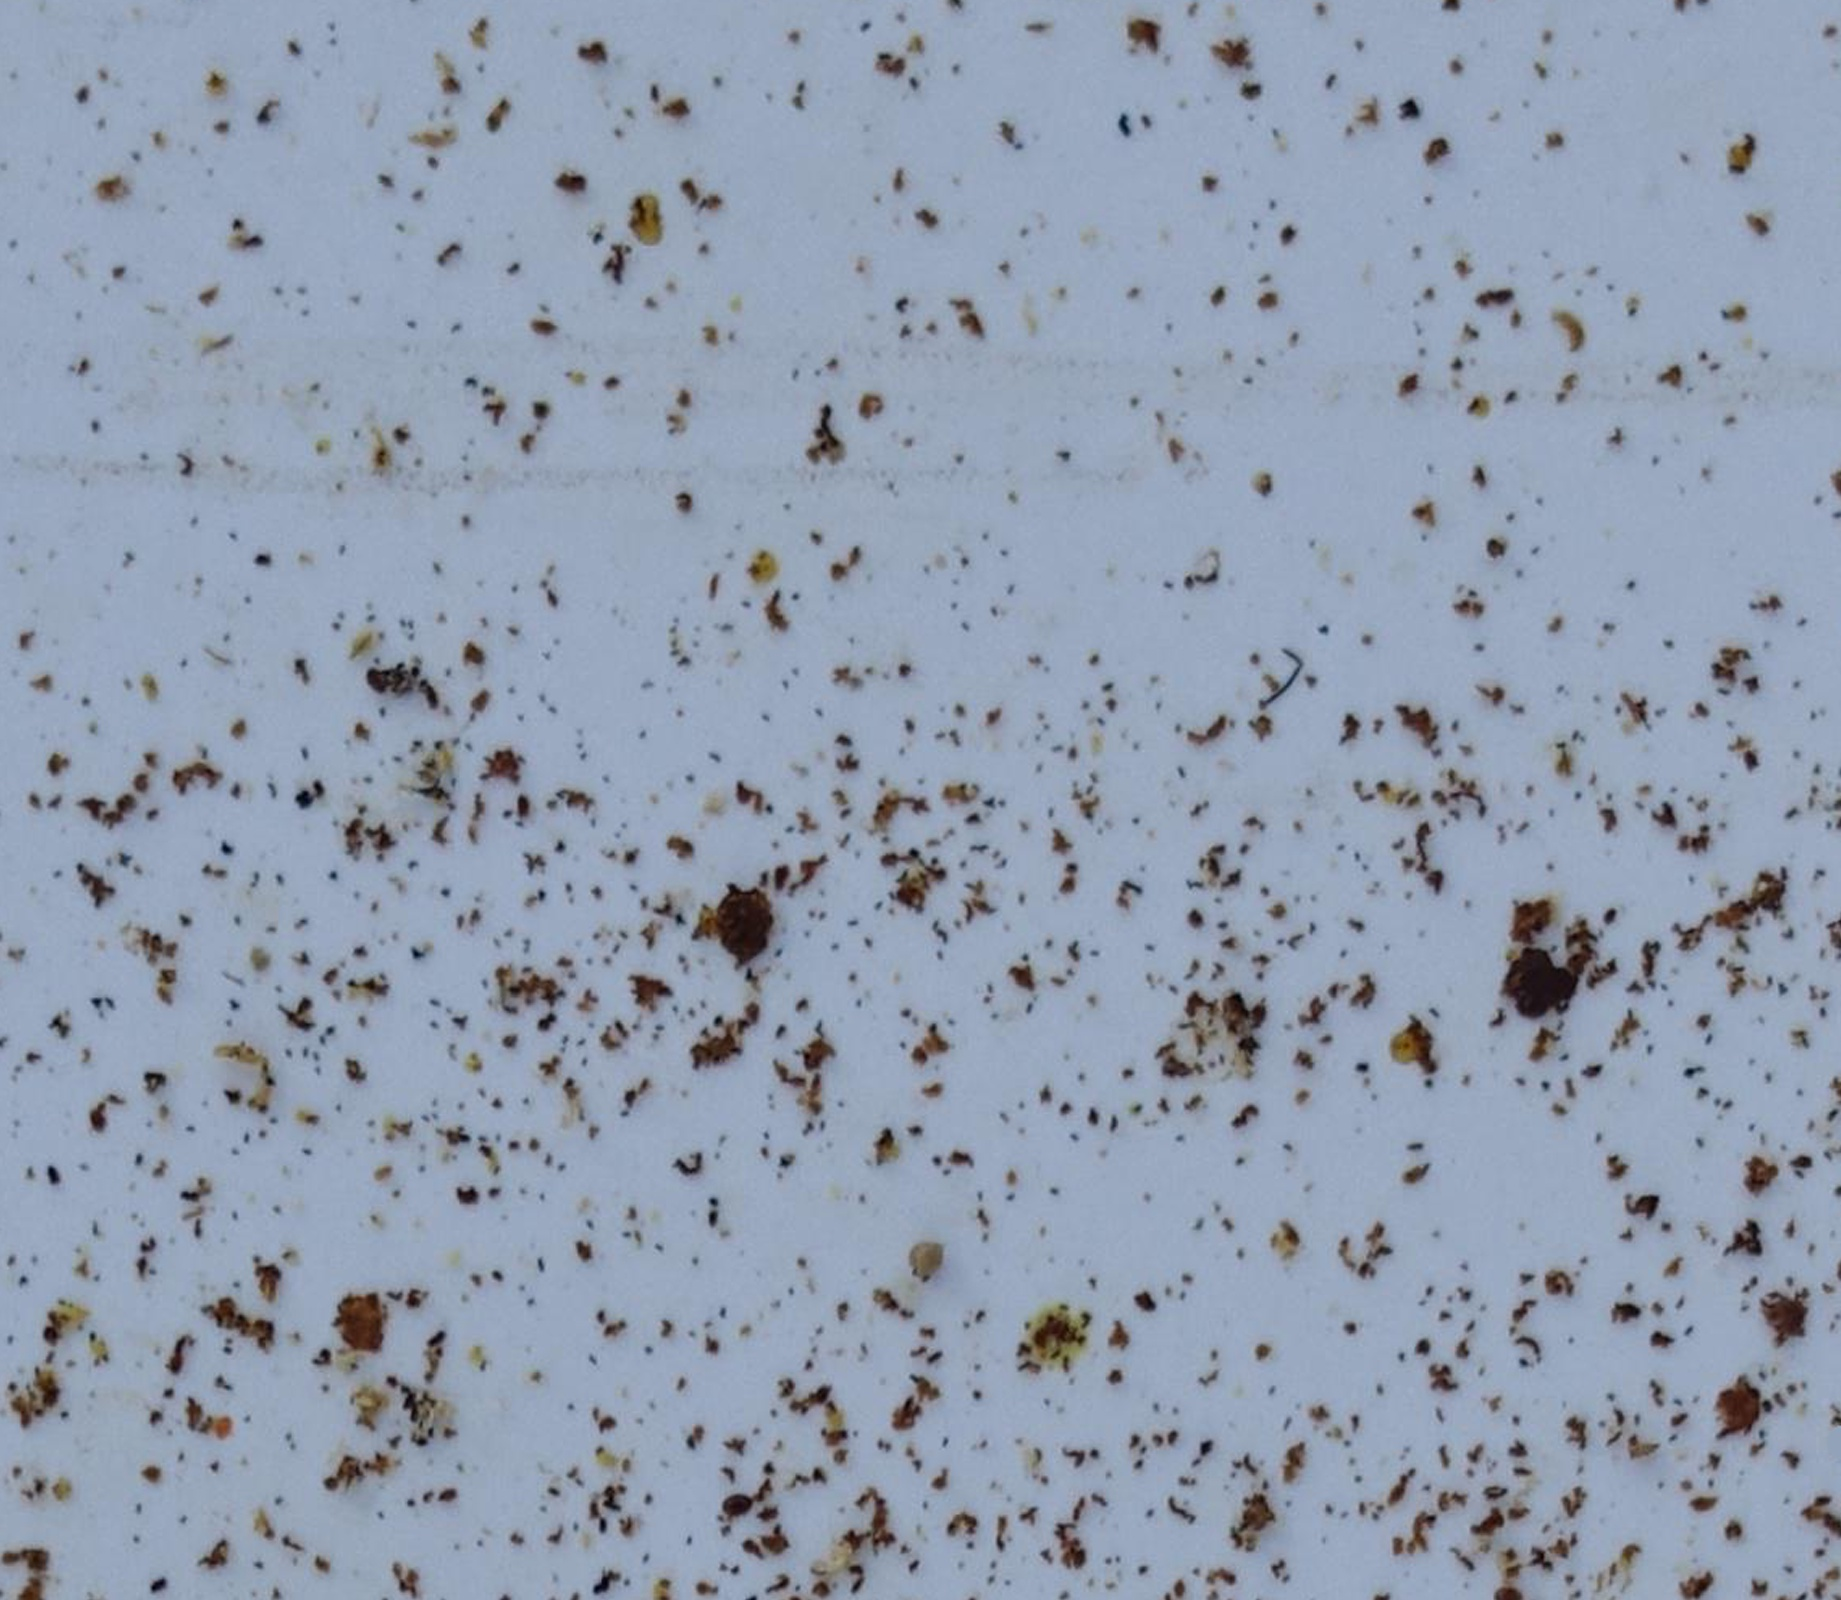Varroa: (722, 1494, 747, 1519)
